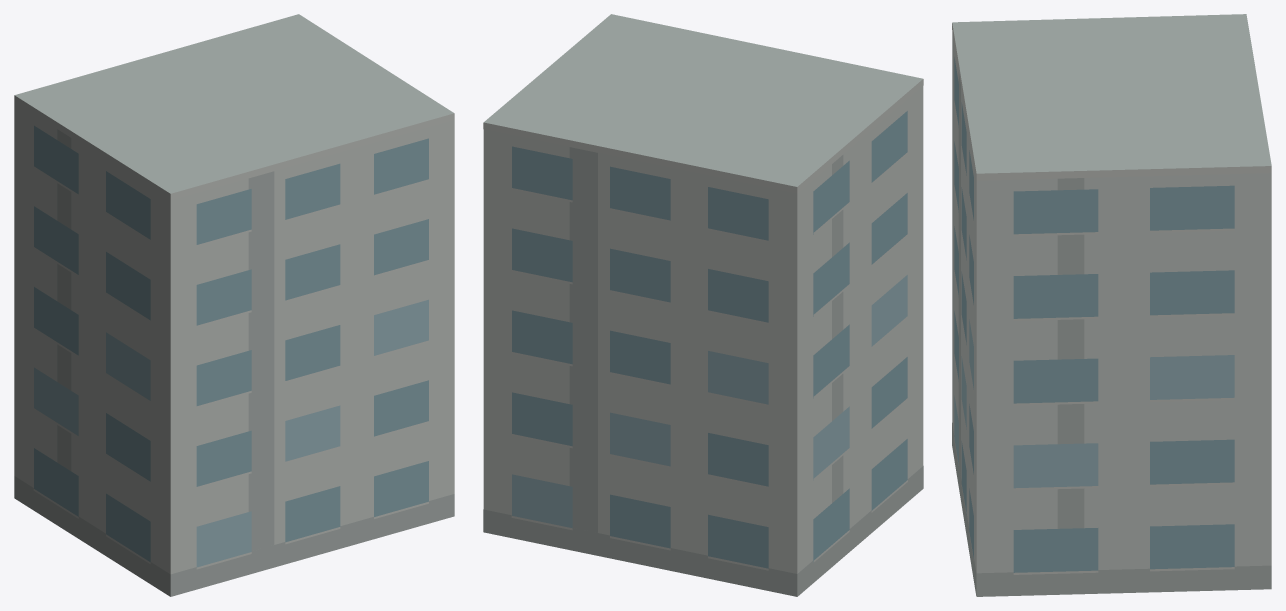
The model's file is survey-upis-32815401.glb.
3 renders of one model, left to right at view 1: azimuth 30°, elevation 25°; view 2: azimuth 150°, elevation 25°; view 3: azimuth 270°, elevation 25°, orthographic. The views are drawn at different scales.
Parts seen in each view (by area): view 1: survey-upis-32815401.tmp; view 2: survey-upis-32815401.tmp; view 3: survey-upis-32815401.tmp.
Part boxes in pixels (x1,y1,x2,y2): survey-upis-32815401.tmp: [14, 14, 454, 596]; survey-upis-32815401.tmp: [483, 14, 923, 596]; survey-upis-32815401.tmp: [952, 14, 1271, 596].
Bounding box in the file's own units: 11.74 × 14.5 × 9.93.
